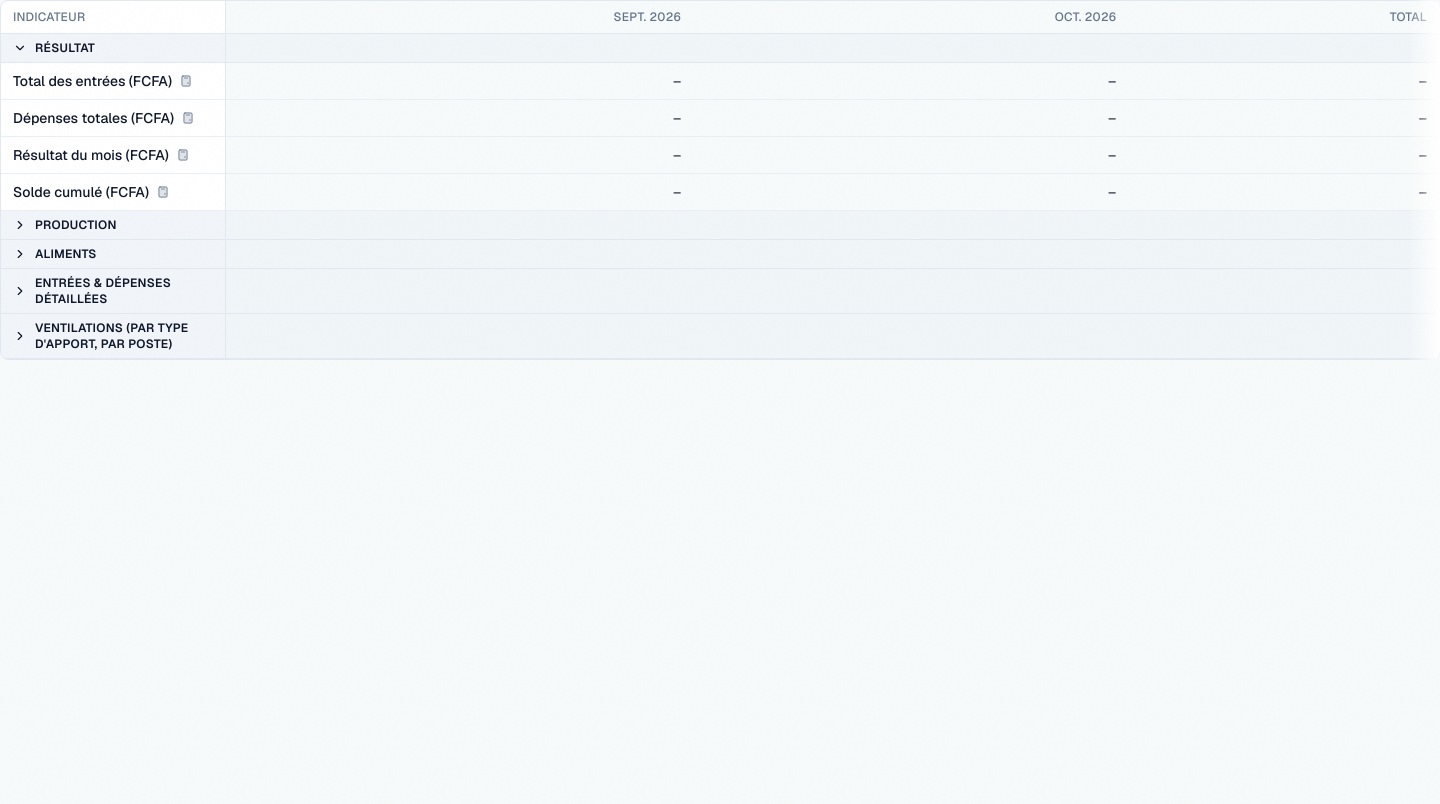
PrevisionsMensuellesTab — sous-section 'Détail par mois de cycle' (story PR2sex.3) › chaque ligne du détail porte un bouton d'explication mentionnant ROUND, la position, et la distinction avec 'à acheter' (ceil)
Expected: the table is shown, [1,1,1439,359]
Click the button "Aliments" at (113, 254), box [13,246,212,262]
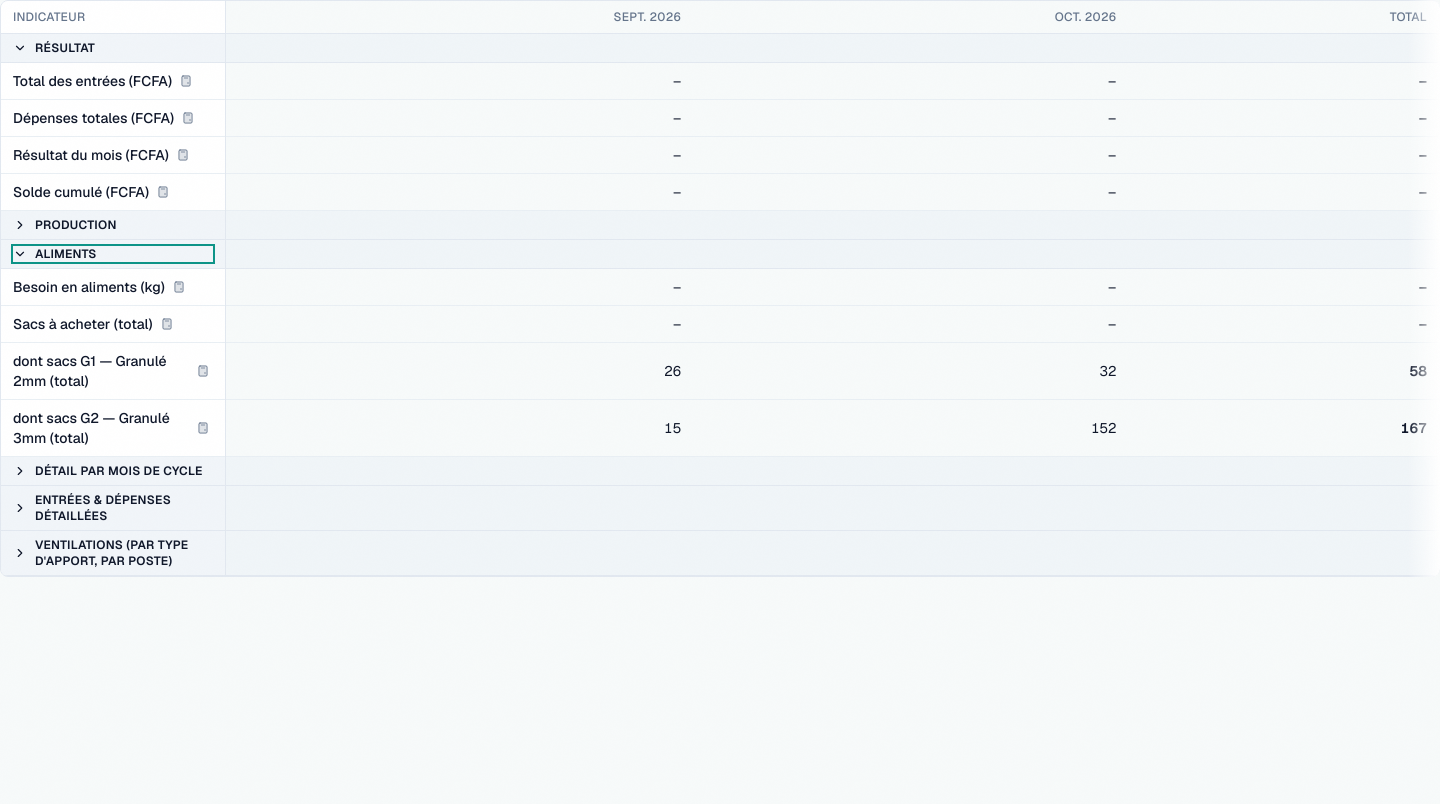
Click the button "Détail par mois de cycle" at (113, 471), box [13,463,212,479]
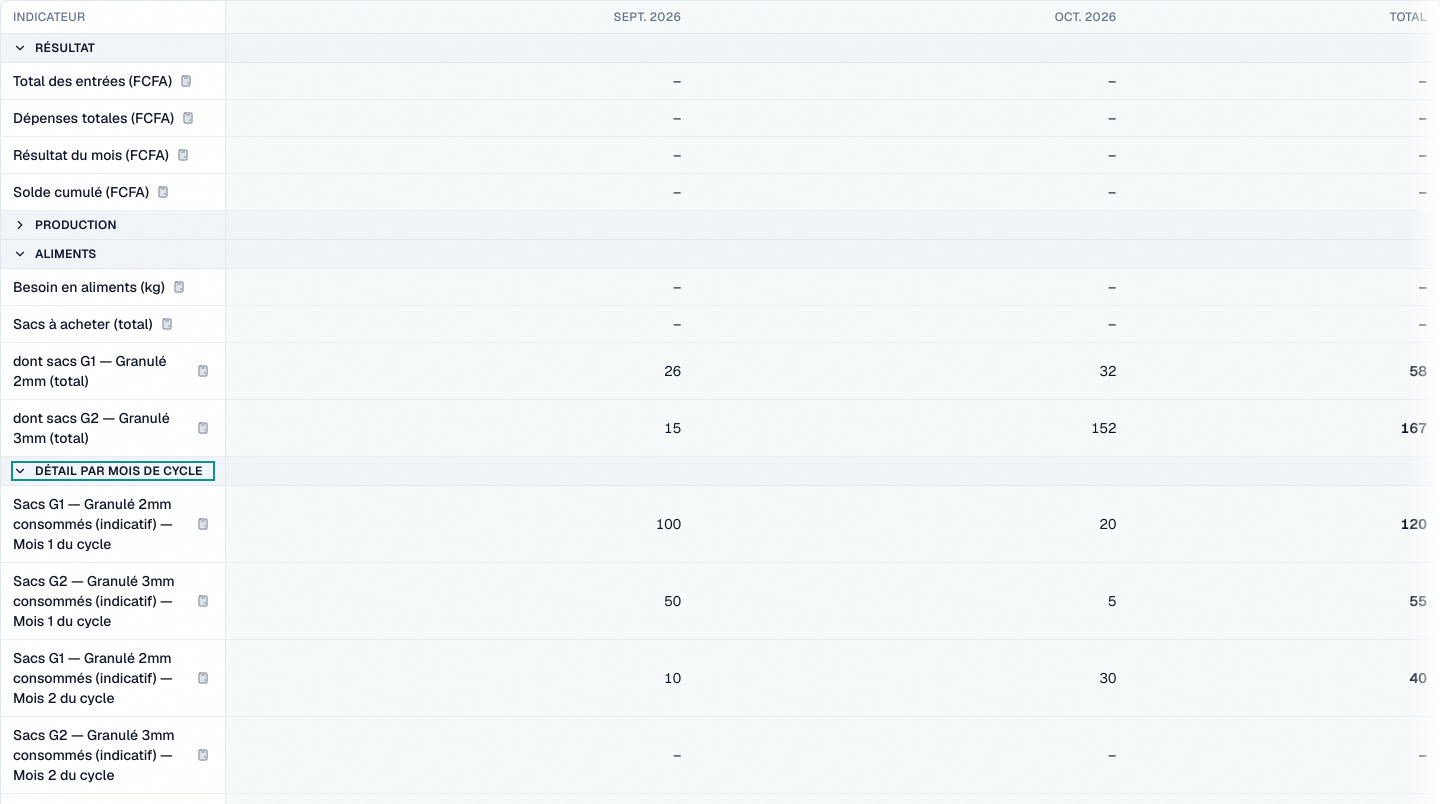
Click the button named "Expliquer la ligne Sacs G1 — Granulé 2mm consommés (indicati" at (202, 524), box [192,514,212,534]
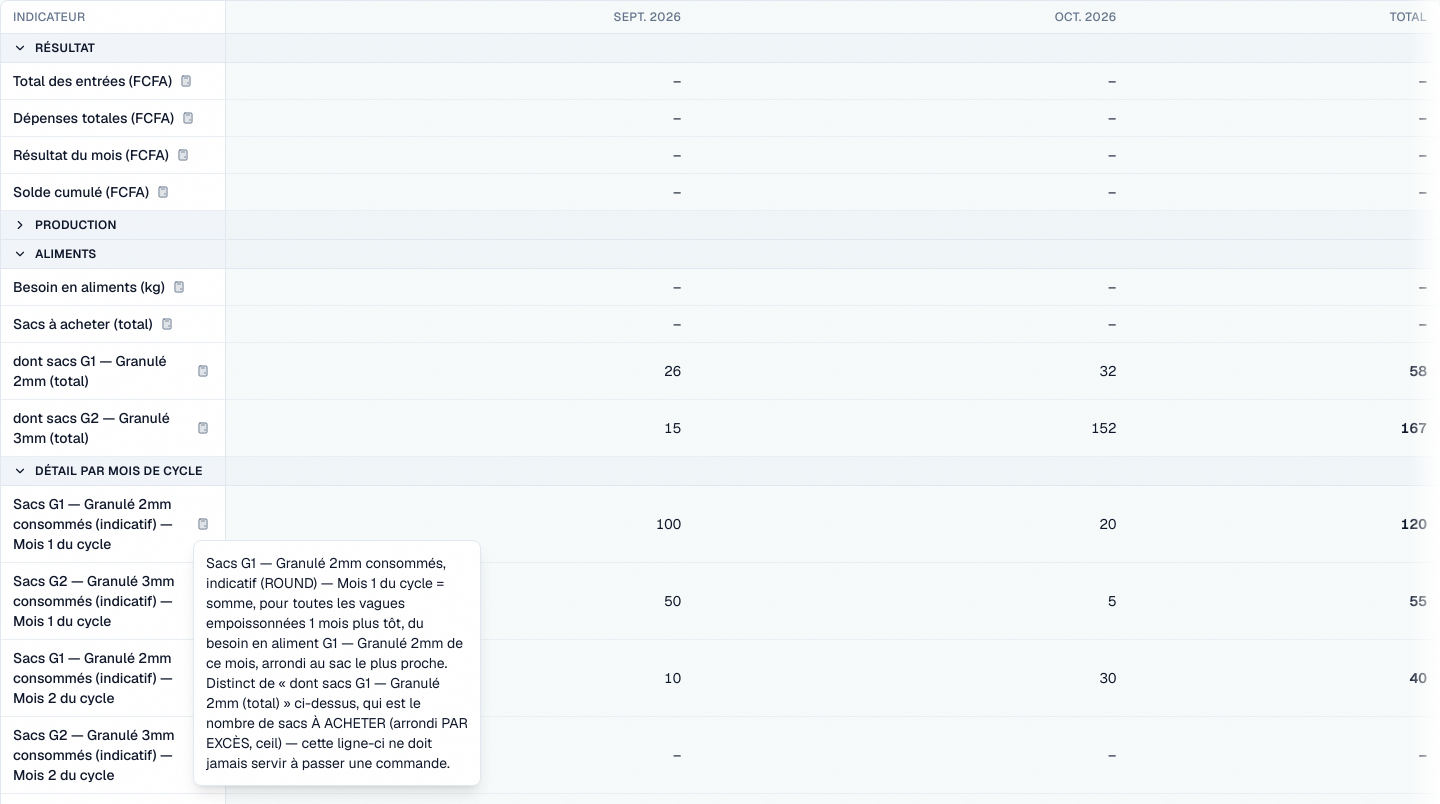
Expected: the text "arrondi PAR EXCÈS, ceil" is shown, [206,554,468,772]
